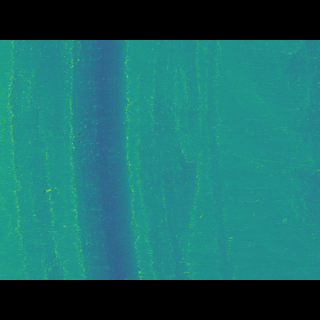Loch: (69, 68, 139, 249), (7, 68, 59, 250)
